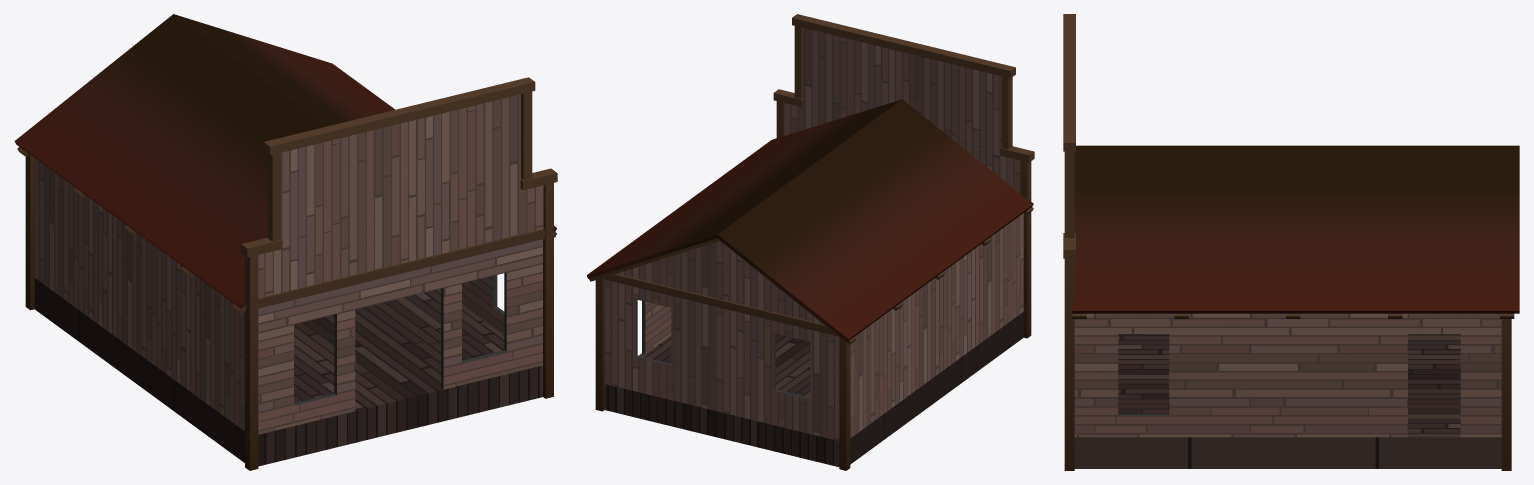
The model's file is House 7 M Brown.glb.
3 renders of one model, left to right at view 1: azimuth 30°, elevation 25°; view 2: azimuth 150°, elevation 25°; view 3: azimuth 270°, elevation 25°, orthographic. The views are drawn at different scales.
Visible parts, largest first — view 1: House 7 M Brown; view 2: House 7 M Brown; view 3: House 7 M Brown.
Part boxes in pixels (bbox=[...]): House 7 M Brown: bbox=[14, 14, 557, 470]; House 7 M Brown: bbox=[586, 14, 1034, 470]; House 7 M Brown: bbox=[1063, 14, 1519, 470].
Size of what is drawn, in the model's own units: 7.53 by 7.24 by 9.4.
Materials: 3 (3 with a texture image).
